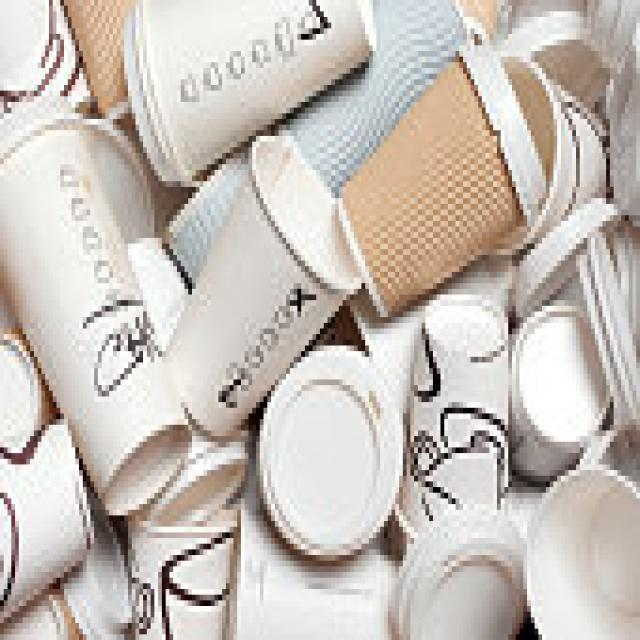electronic: (335, 0, 610, 317), (0, 113, 192, 516), (162, 130, 361, 436), (120, 0, 377, 187), (392, 289, 508, 538), (0, 328, 90, 628)
